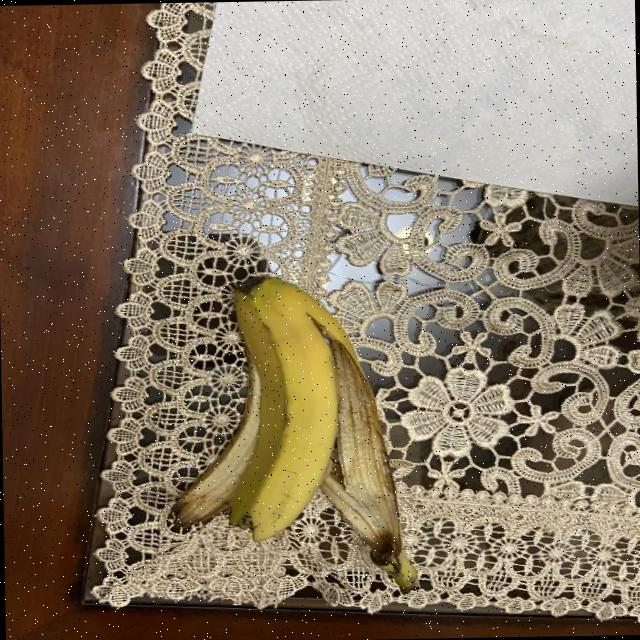banana-peel: (168, 270, 419, 596), (306, 312, 419, 594)
